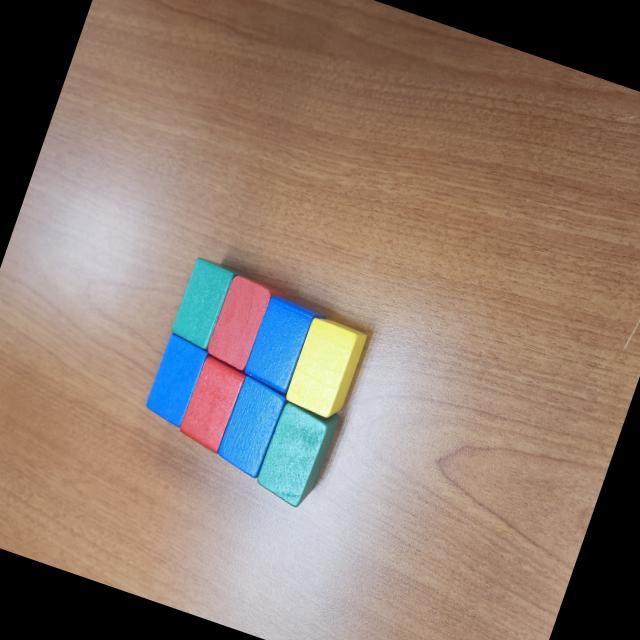blue: (239, 294, 329, 402), (211, 372, 289, 480), (140, 332, 210, 428)
green: (250, 392, 342, 512), (167, 255, 236, 354)
red: (203, 273, 289, 379), (173, 353, 247, 455)
yellow: (281, 314, 368, 424)
